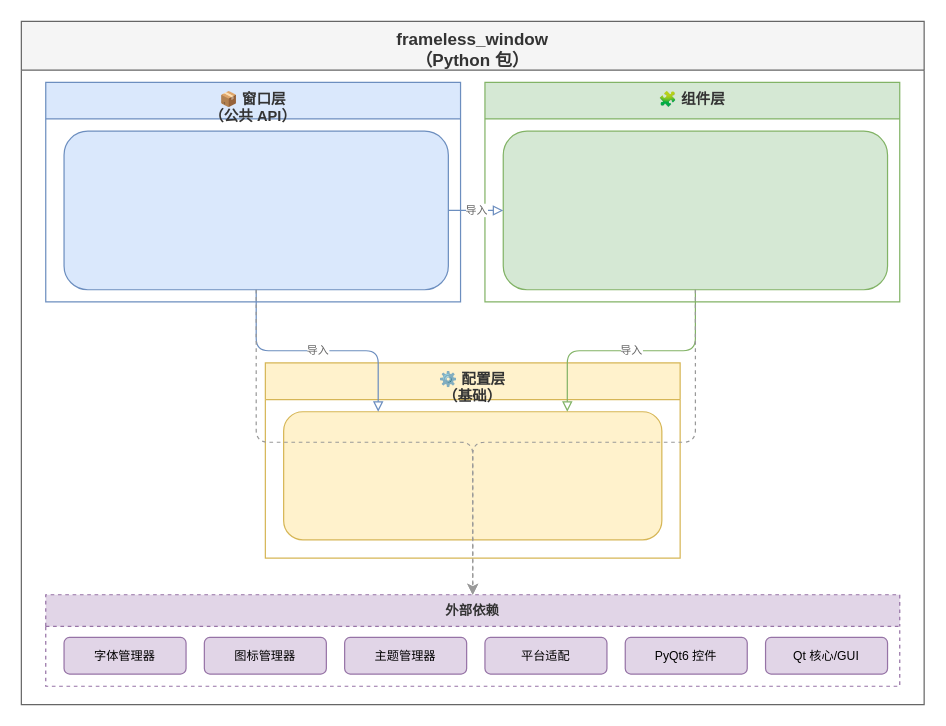
Some shapes in this 946 by 726 pixel diagram are drawn without their labels. Here are the shapes that lost their labels. From the top down, the centre of each, then its label:
At (x=255, y=210): "__init__.py FramelessWindow • 窗口初始化 • 边缘调整大小 • 事件过滤 • 主题应用 • 布局管理 API".
At (x=695, y=210): "title_bar.py TitleBar • 自定义标题栏 UI • 窗口控制按钮 • 拖动处理 • 主题集成 • 自定义组件支持".
At (x=472, y=475): "config.py WindowConfig • 配置常量与默认值 TitleBarPosition • 位置枚举（左/中/右）".
